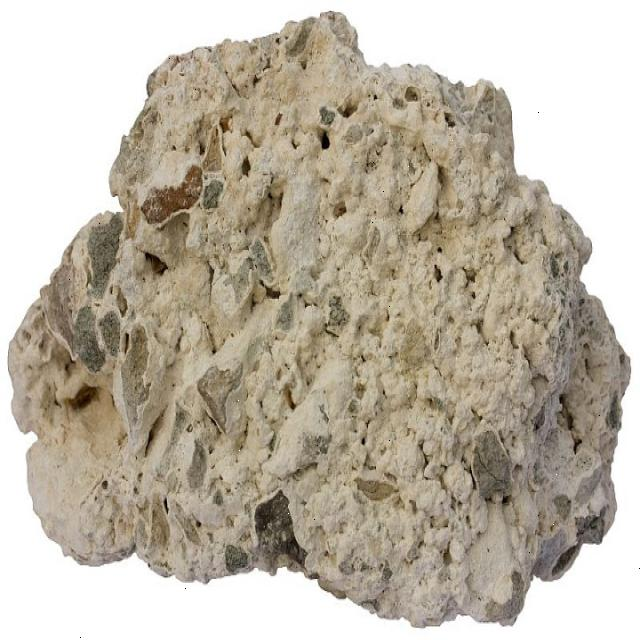Sedimentary: (8, 21, 628, 624)
